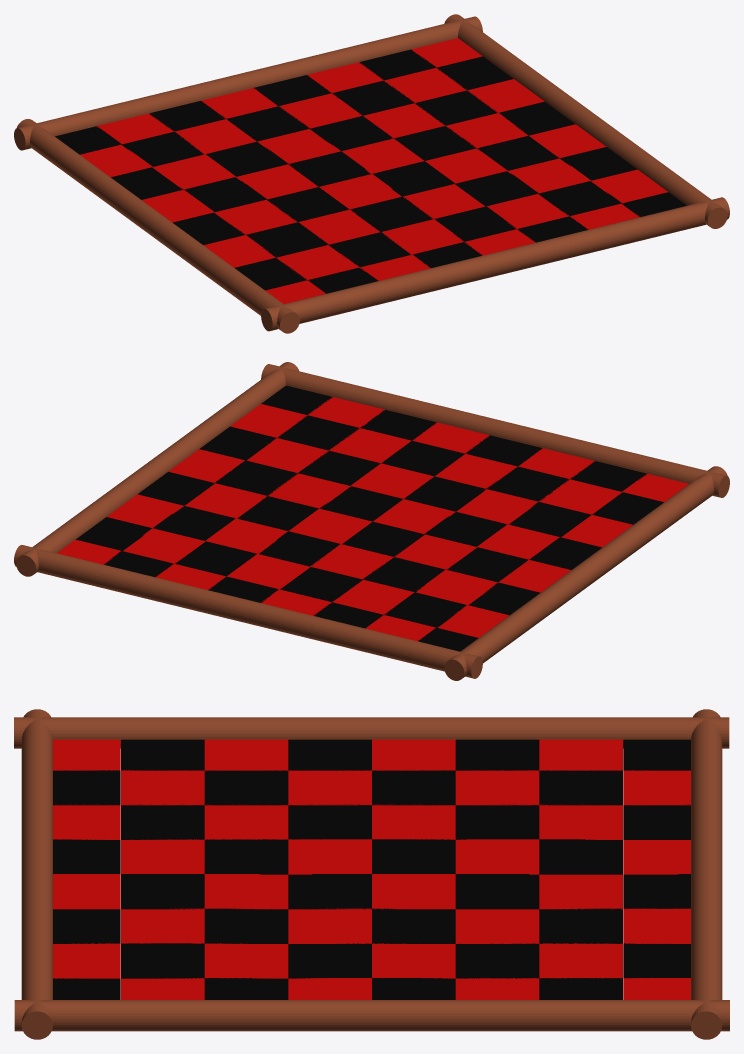
Rendered from ChessBoard.fbx.
3 renders of one model, top to bottom at view 1: azimuth 30°, elevation 25°; view 2: azimuth 150°, elevation 25°; view 3: azimuth 270°, elevation 25°, orthographic. The views are drawn at different scales.
Parts seen in each view (by area): view 1: ChessBoard; view 2: ChessBoard; view 3: ChessBoard.
Part boxes in pixels (left/top/right/bottom): ChessBoard: left=14, top=14, right=729, bottom=333; ChessBoard: left=14, top=362, right=729, bottom=680; ChessBoard: left=14, top=709, right=729, bottom=1039.
Bounding box in the file's own units: 958 × 41.9 × 959.
